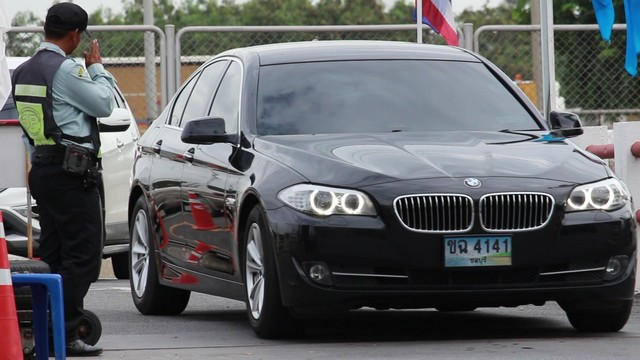in: (446, 238, 511, 266)
out: (440, 234, 516, 271)
